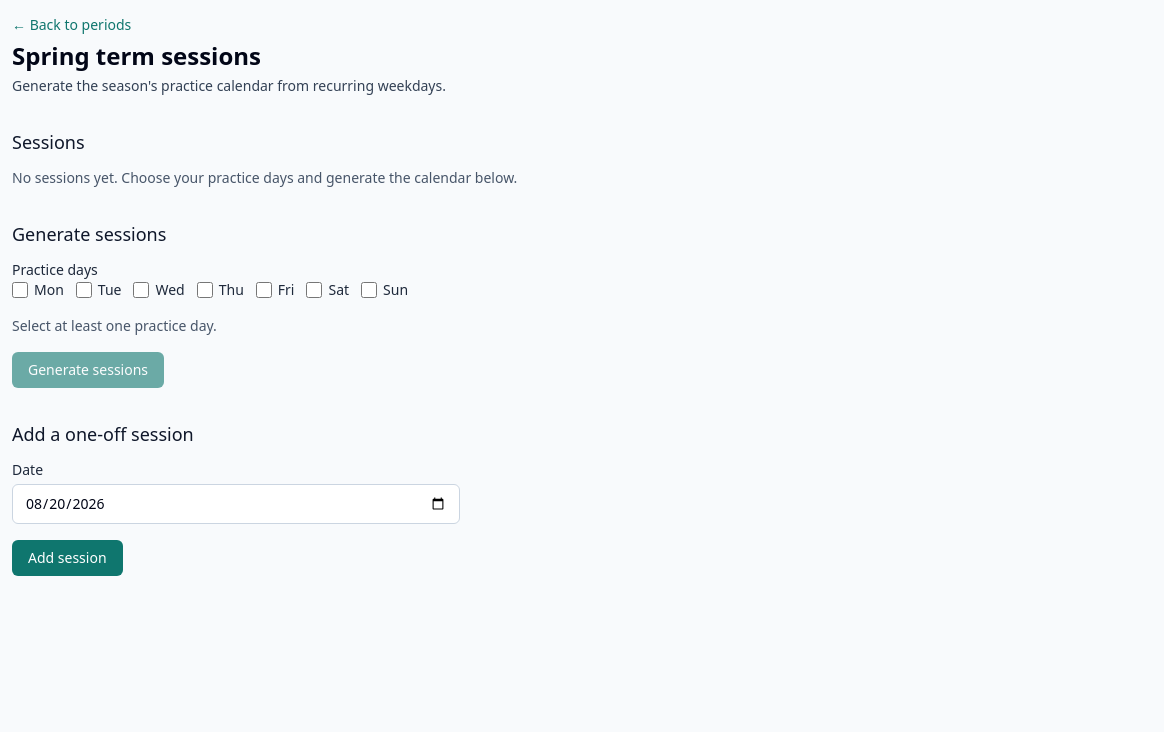
SessionsPage › adds an ad-hoc session and reloads the list
Expected: the text "No sessions yet" is shown, top-left (12, 168), bottom-right (517, 187)
In the date field labelled "Date": (236, 504) top-left (12, 484), bottom-right (460, 524), type "2026-01-10"
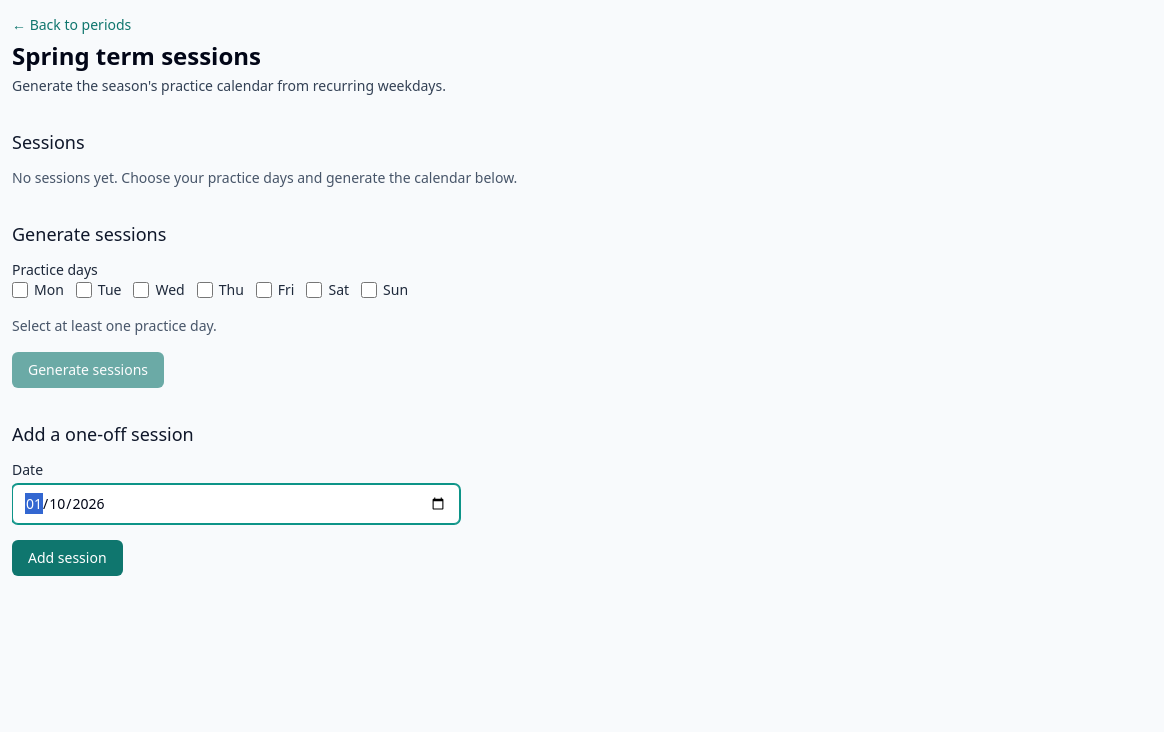
Click the button "Add session": click(67, 558) top-left (12, 540), bottom-right (123, 576)
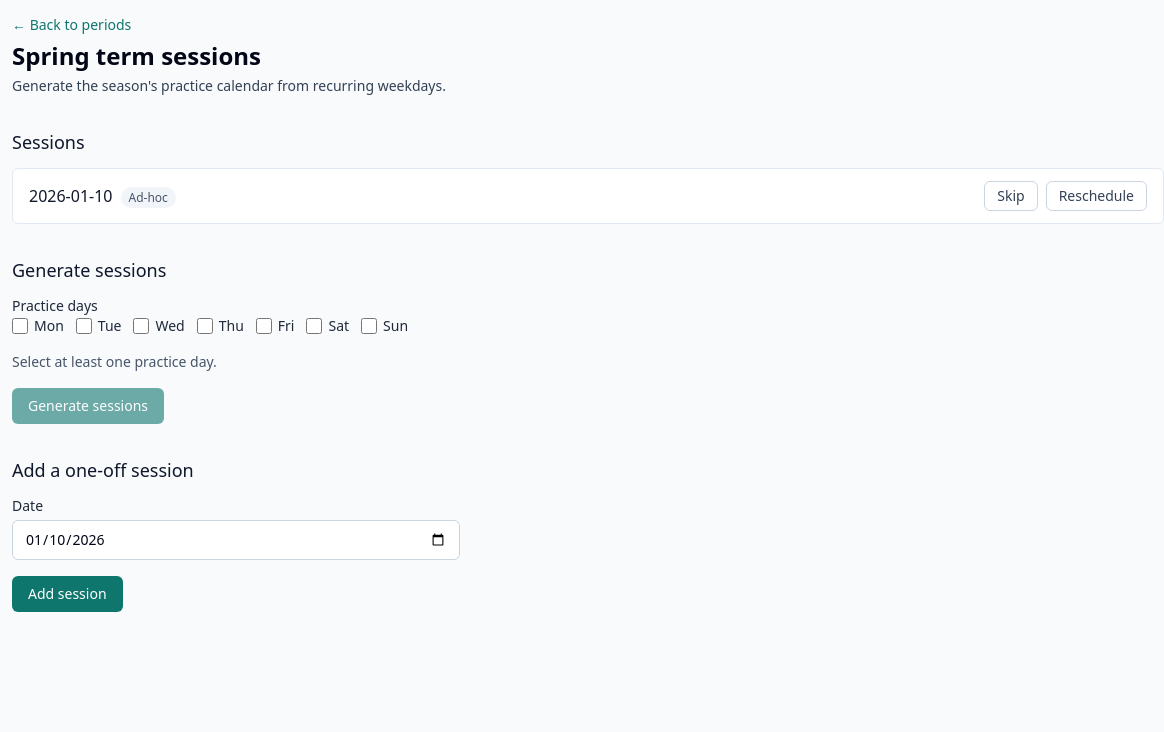
Expected: the text "2026-01-10" is shown, top-left (29, 185), bottom-right (112, 207)
